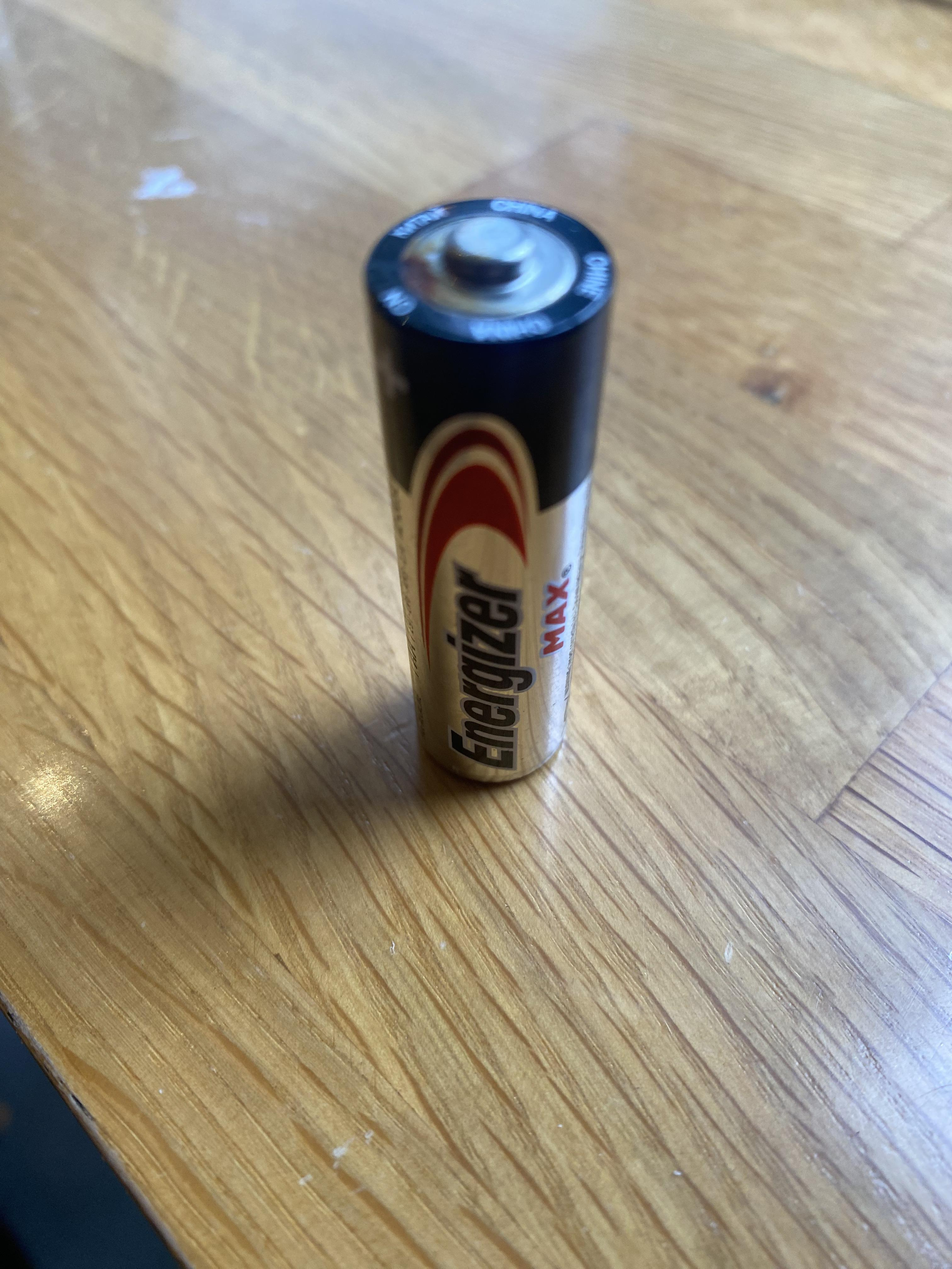AA: (361, 195, 615, 785)
